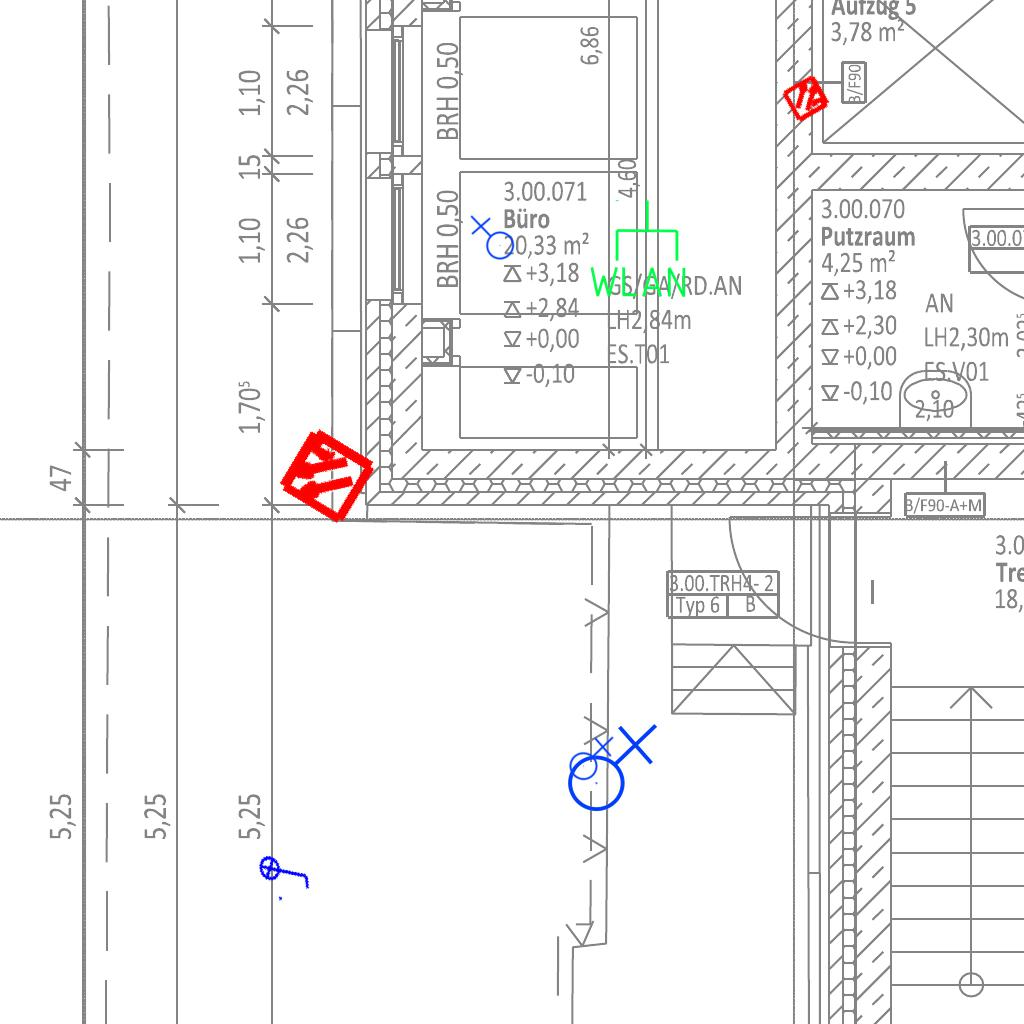Ausschalter_beleuchtet: (252, 837, 318, 907)
Elektroanschluss_allgemein_230V_Geraeteanschlussdose_230V: (559, 719, 658, 813), (468, 215, 515, 264), (565, 734, 614, 781)
OT_Multisensormelder_(Kombination_RMO_WMD): (247, 396, 404, 553), (768, 59, 846, 137)
WLAN: (585, 197, 690, 301)
